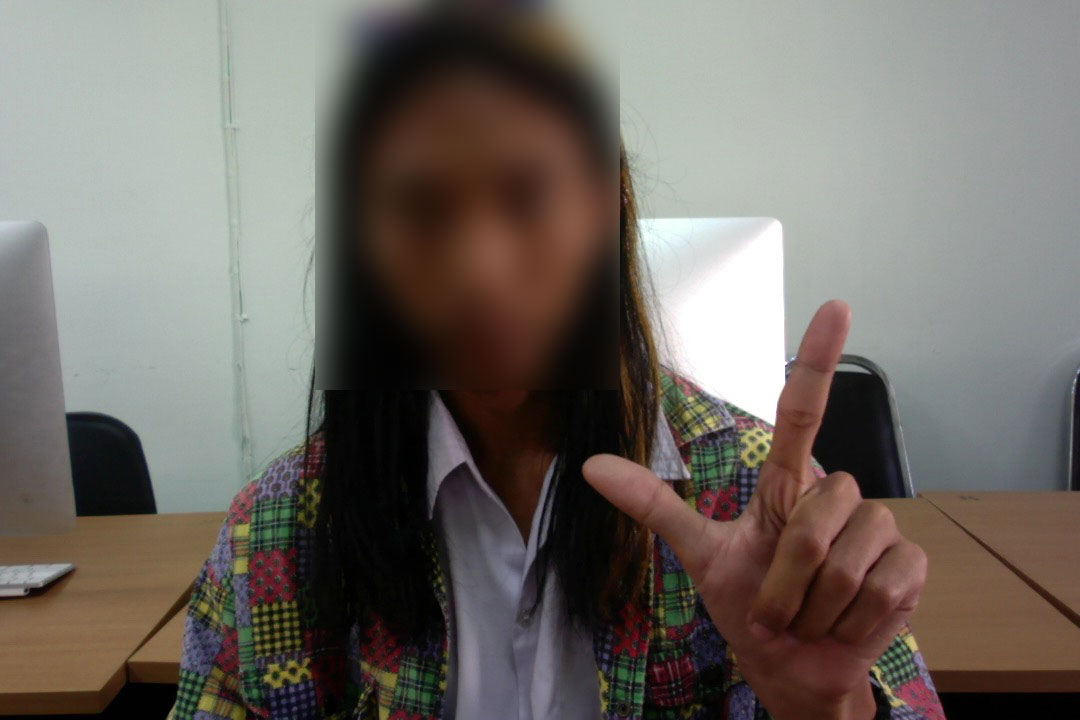lor: (563, 287, 941, 714)
